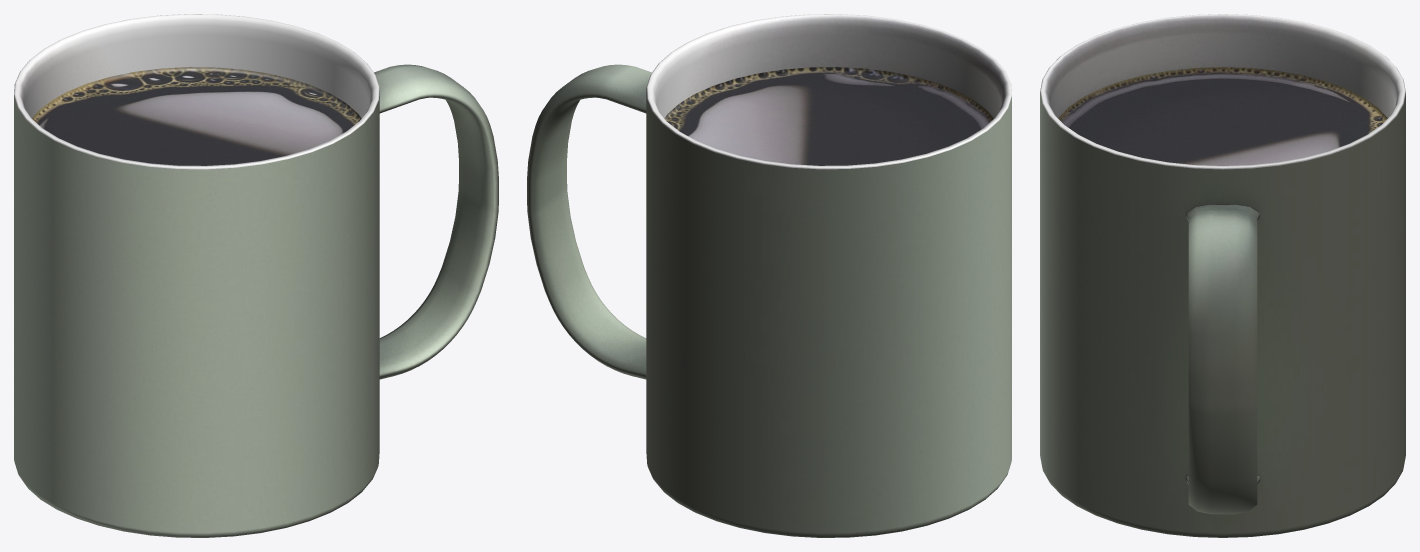
Rendered from coffee_cup.glb.
3 views of the same model, side by side, from view 1: azimuth 30°, elevation 25°; view 2: azimuth 150°, elevation 25°; view 3: azimuth 270°, elevation 25° (orthographic).
Visible parts, largest first — view 1: coffee1; view 2: coffee1; view 3: coffee1.
Boxes of the visible parts, x1,y1,x2,y2 form: coffee1: (14,14,498,537); coffee1: (527,14,1011,537); coffee1: (1040,14,1405,537).
Size of the model in its own units: 1.14 by 0.8977 by 0.8.
1 material, 1 textured.
